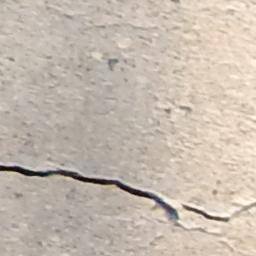Horizontal Settlement Crack: (0, 162, 255, 233)
